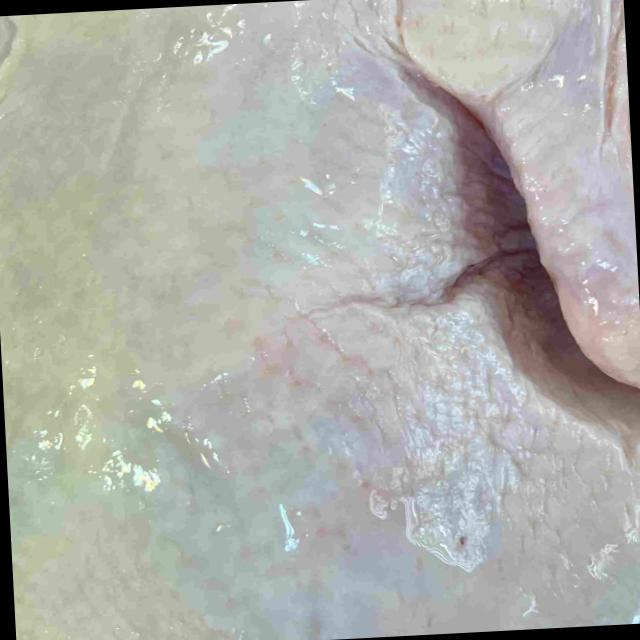back: (0, 0, 614, 640)
wing: (391, 0, 640, 404)
